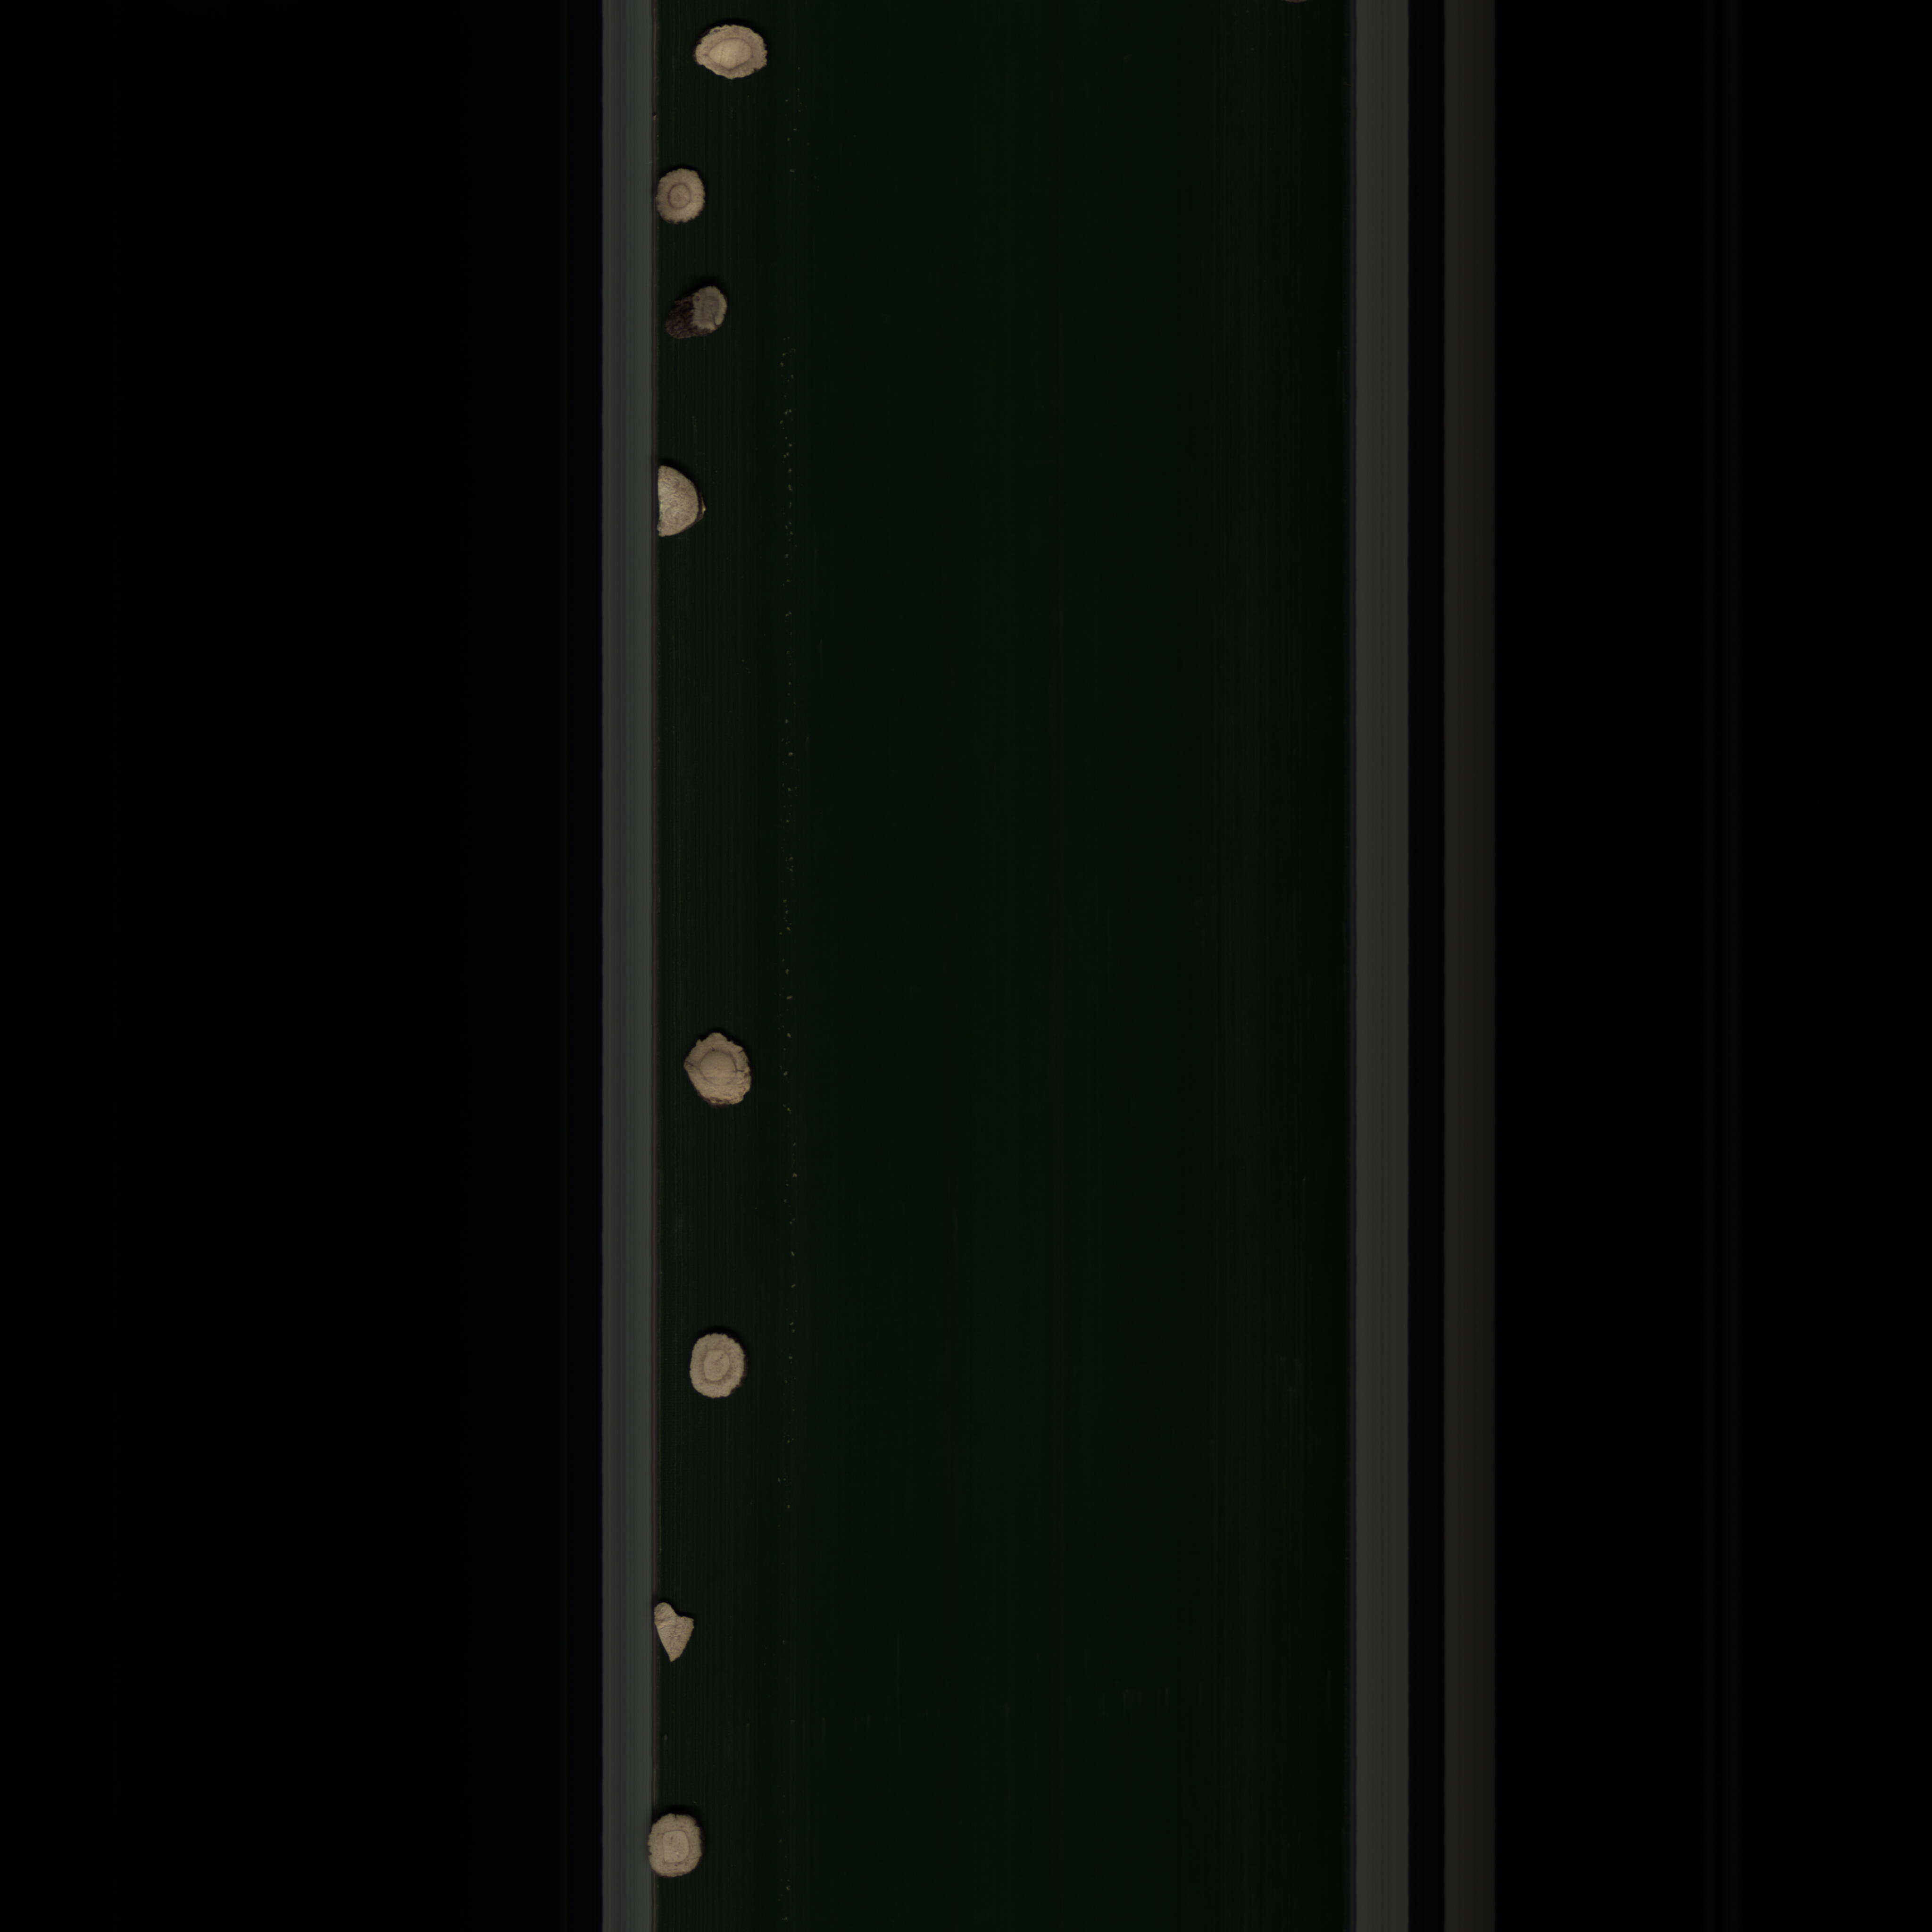bark: (653, 269, 741, 345)
debris: (649, 453, 709, 550), (653, 1596, 701, 1668)
moldy: (653, 161, 718, 232)
